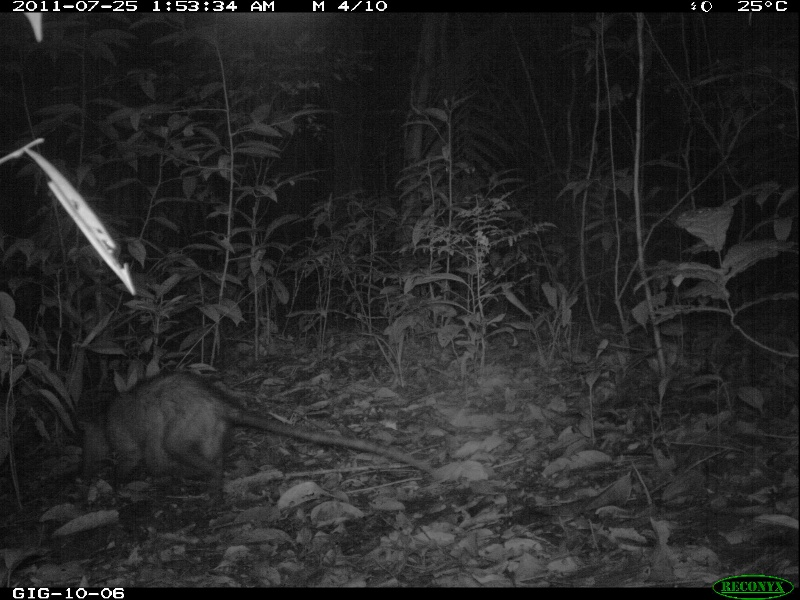opossum: (34, 373, 443, 505)
